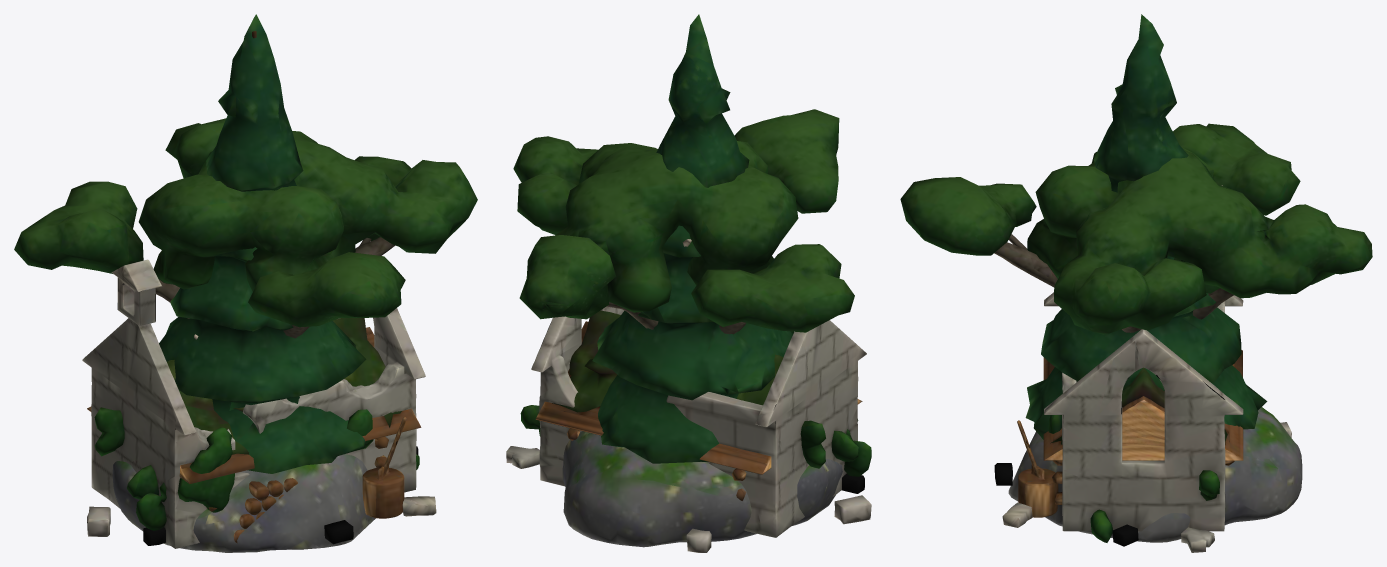
The model's file is medieval_decor_darkwood.glb.
3 renders of one model, left to right at view 1: azimuth 30°, elevation 25°; view 2: azimuth 150°, elevation 25°; view 3: azimuth 270°, elevation 25°, orthographic. The views are drawn at different scales.
Parts seen in each view (by area): view 1: Oak_A, Spruce_A, Chapel, Rock_C, Hut; view 2: Oak_A, Spruce_A, Chapel, Rock_C, Hut; view 3: Oak_A, Chapel, Spruce_A, Rock_C, Hut.
Part boxes in pixels (x1,y1,x2,y2): Oak_A: (14, 118, 477, 338); Spruce_A: (159, 14, 366, 473); Chapel: (82, 259, 436, 548); Rock_C: (112, 454, 375, 552); Hut: (87, 318, 421, 543); Oak_A: (513, 109, 854, 334); Spruce_A: (592, 14, 793, 463); Chapel: (506, 306, 871, 552); Rock_C: (562, 431, 842, 547); Hut: (535, 310, 862, 500); Oak_A: (900, 123, 1372, 334); Chapel: (994, 292, 1291, 552); Spruce_A: (1025, 14, 1267, 439); Rock_C: (1008, 407, 1302, 542); Hut: (1017, 350, 1243, 517).
Bounding box in the file's own units: 3.24 × 4.04 × 3.49.
Materials: 1 (1 with a texture image).
